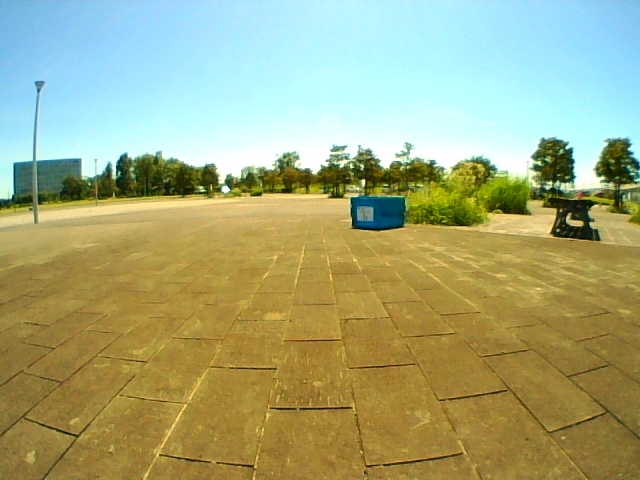blue_box: (352, 198, 404, 228)
tag: (357, 207, 372, 221)
